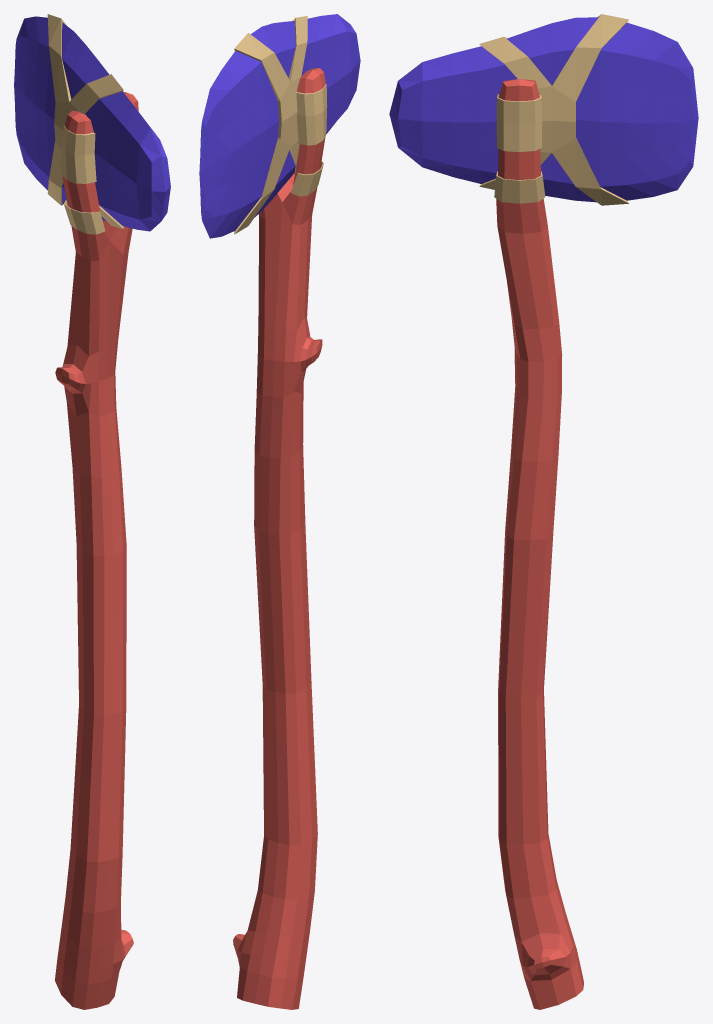
Rendered from stone_axe_a04.fbx.
3 renders of one model, left to right at view 1: azimuth 30°, elevation 25°; view 2: azimuth 150°, elevation 25°; view 3: azimuth 270°, elevation 25°, orthographic. The views are drawn at different scales.
Parts seen in each view (by area): view 1: Stiel, Kopf, Leder; view 2: Stiel, Kopf, Leder; view 3: Stiel, Kopf, Leder.
Part boxes in pixels (x1,y1,x2,y2): Stiel: (55, 91, 138, 1009); Kopf: (14, 16, 170, 231); Leder: (47, 14, 123, 234); Stiel: (233, 68, 325, 1009); Kopf: (199, 14, 360, 238); Leder: (234, 16, 327, 234); Stiel: (496, 79, 583, 1009); Kopf: (389, 17, 698, 202); Leder: (479, 14, 628, 205).
Size of the model in its own units: 421 by 5054 by 1434.
